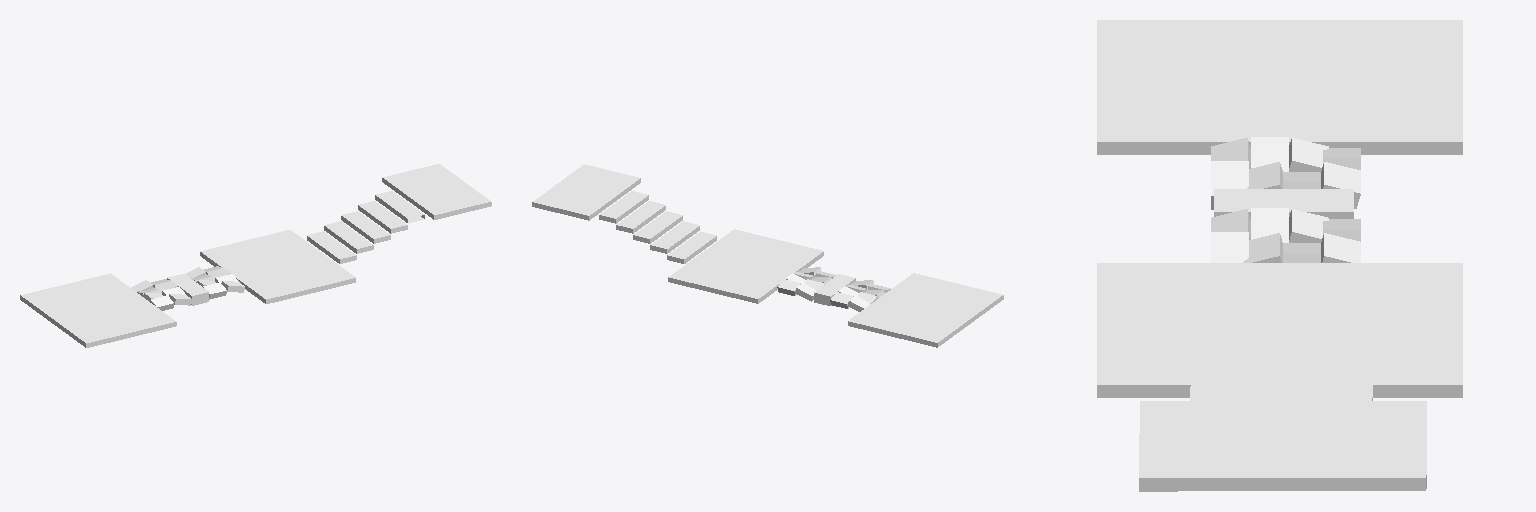
robot.urdf — ramp_stairs:
<robot name="ramp_stairs">
  <link name="base_link">
    <visual>
      <origin xyz="0 0 0" rpy="0 0 0" />
      <geometry>
        <mesh filename="package://hpp_environments/meshes/multicontact/daeun/ramp_stairs.stl"/>
      </geometry>
      <material name="white">
        <color rgba="1 1 1 1"/>
      </material>
    </visual>
    <collision>
      <origin xyz="0 0 0" rpy="0 0 0" />
      <geometry>
        <mesh filename="package://hpp_environments/meshes/multicontact/daeun/ramp_stairs.stl"/>
      </geometry>
    </collision>
  </link>
</robot>

--- What the picture shows (computed from the rendered views, not written in the file) ---
3 views of the same robot in one strip: view 1: azimuth 30°, elevation 25°; view 2: azimuth 150°, elevation 25°; view 3: azimuth 270°, elevation 25° (orthographic).
Model ramp_stairs with 1 links and 0 joints (none), rooted at base_link, posed every joint at zero.
Links seen in each view (by area): view 1: base_link; view 2: base_link; view 3: base_link.
Boxes of the visible links, box(x1,y1,x2,y2) form: base_link: box(20, 164, 491, 347); base_link: box(532, 164, 1003, 347); base_link: box(1097, 20, 1462, 491).
Size in the robot's own frame: 7.24 by 2 by 0.7471 metres.
1 mesh visuals loaded from 1 distinct referenced files (1 binary STL).
